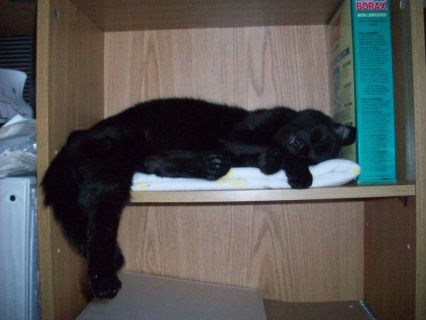Cat: (35, 96, 357, 300)
